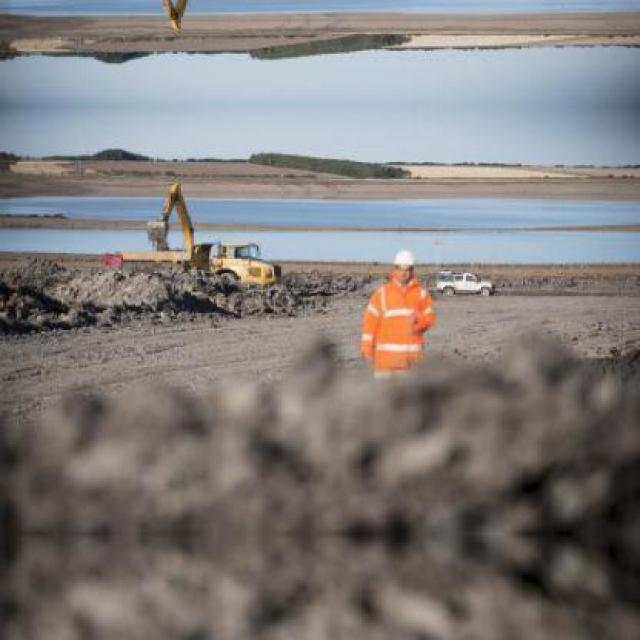Reflective-Jacket: (357, 278, 437, 381)
Safety-Helmet: (386, 243, 422, 274)
